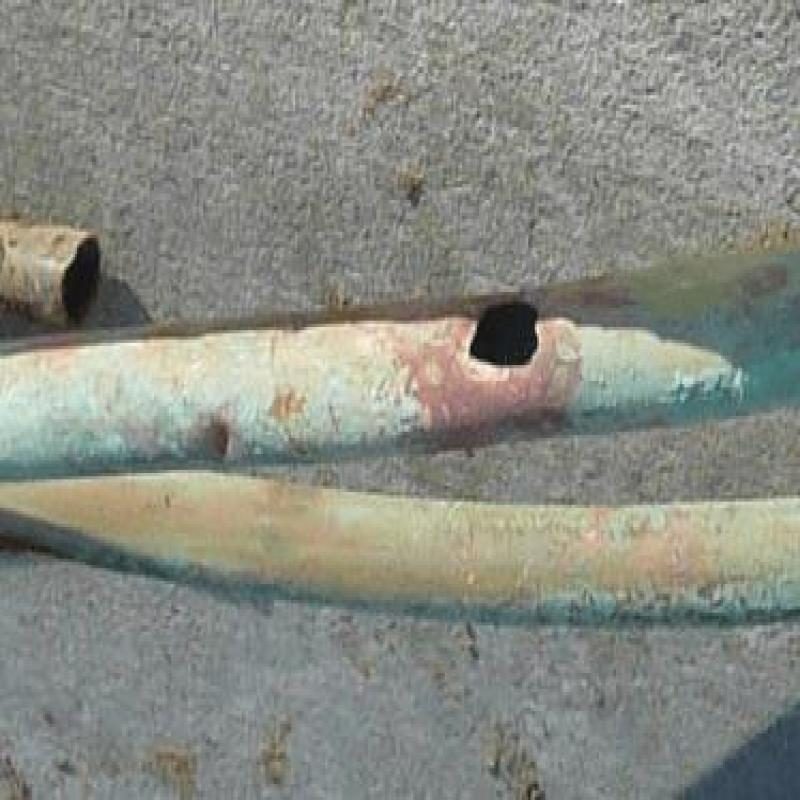Fracture: (466, 295, 561, 374)
